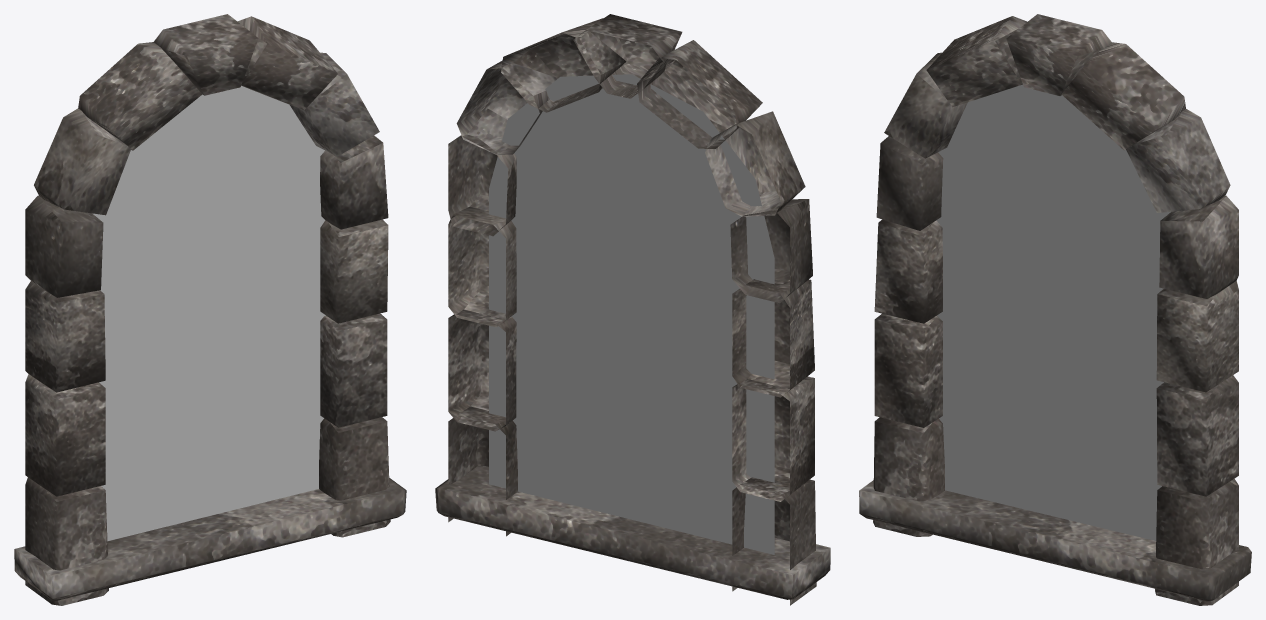
Rendered from DoorStone_1.fbx.
3 renders of one model, left to right at view 1: azimuth 30°, elevation 25°; view 2: azimuth 150°, elevation 25°; view 3: azimuth 330°, elevation 25°, orthographic.
Parts seen in each view (by area): view 1: Mesh; view 2: Mesh; view 3: Mesh.
Boxes of the visible parts, x1=… form: Mesh: x1=14, y1=14, x2=406, y2=605; Mesh: x1=435, y1=14, x2=830, y2=605; Mesh: x1=859, y1=14, x2=1251, y2=605.
Bounding box in the file's own units: 145 × 203 × 28.49.
